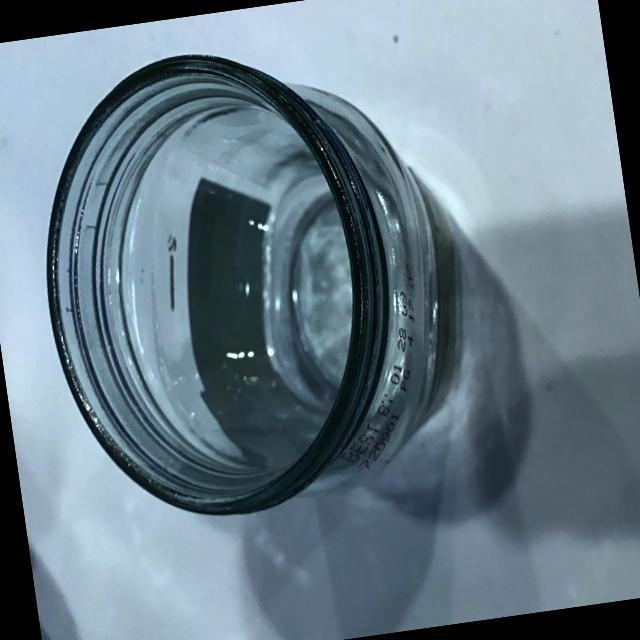glass: (6, 8, 494, 572)
